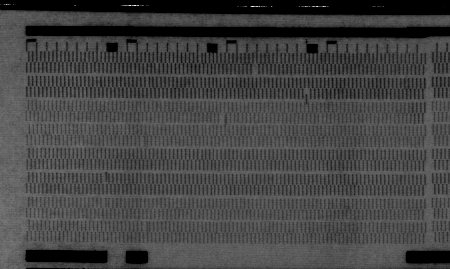Broken hole: (250, 64, 262, 77), (218, 114, 228, 125)
Oblique printing: (99, 171, 112, 186), (302, 88, 312, 105), (138, 135, 150, 149), (139, 221, 153, 233)
